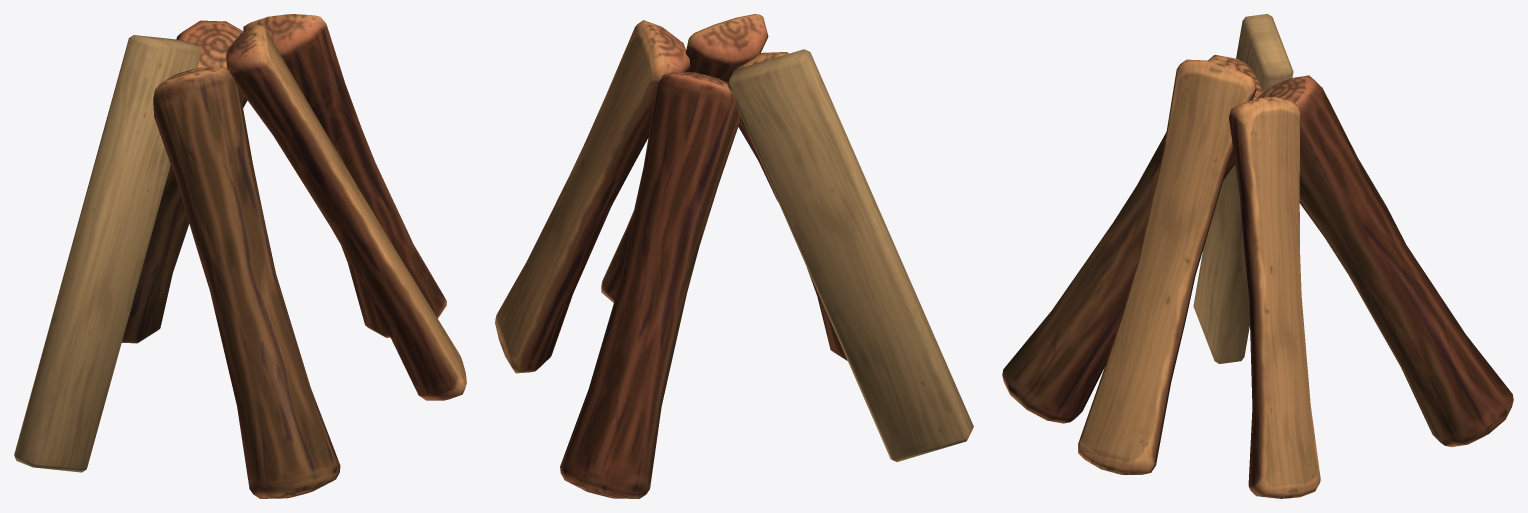
The model's file is SM_Logs_TeePee_02.obj.
3 renders of one model, left to right at view 1: azimuth 30°, elevation 25°; view 2: azimuth 150°, elevation 25°; view 3: azimuth 270°, elevation 25°, orthographic. The views are drawn at different scales.
Visible parts, largest first — view 1: SM_Logs_TeePee_02_MI_CampFire_Assets; view 2: SM_Logs_TeePee_02_MI_CampFire_Assets; view 3: SM_Logs_TeePee_02_MI_CampFire_Assets.
Boxes of the visible parts, x1,y1,x2,y2 form: SM_Logs_TeePee_02_MI_CampFire_Assets: (14, 14, 466, 498); SM_Logs_TeePee_02_MI_CampFire_Assets: (495, 14, 973, 498); SM_Logs_TeePee_02_MI_CampFire_Assets: (1002, 14, 1513, 498).
Size of the model in its own units: 0.6413 by 0.5392 by 0.6473.
1 material, 1 textured.
